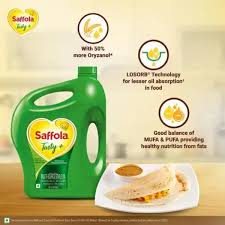saffola: (11, 66, 105, 198)
